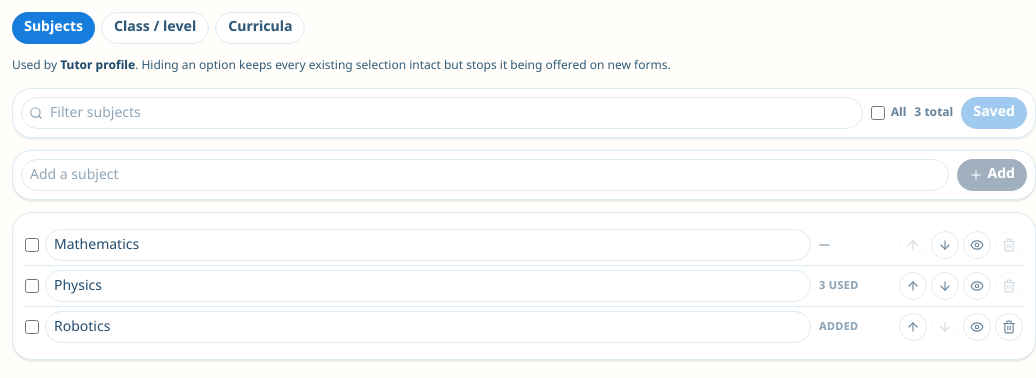
Test: option catalog manager › selects every visible row from the header, and only the visible ones
Type "ph" into the field with placeholder "Filter subjects" at (442, 113), box [21,97,863,129]
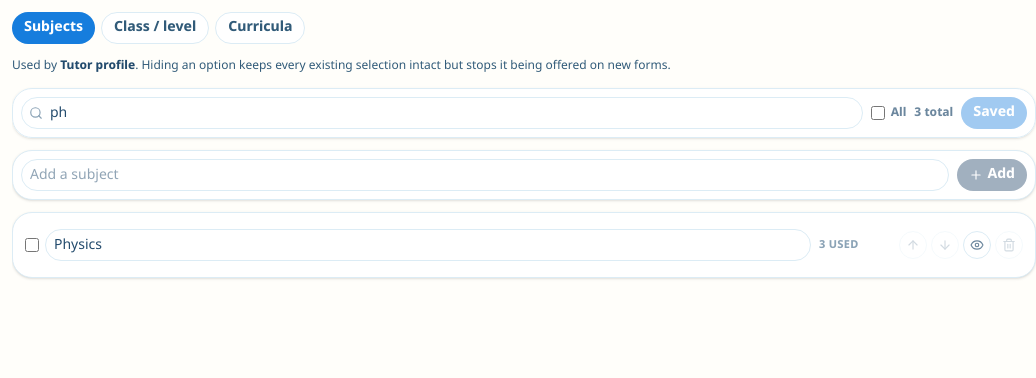
Click the checkbox named "Select every matching option" at (878, 113), box [871,106,885,120]
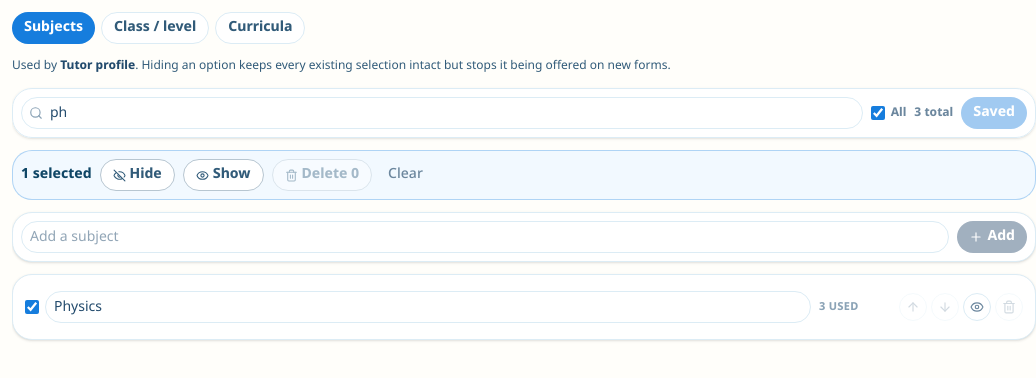
Result: the text "1 selected" is shown at [21,165,92,185]
